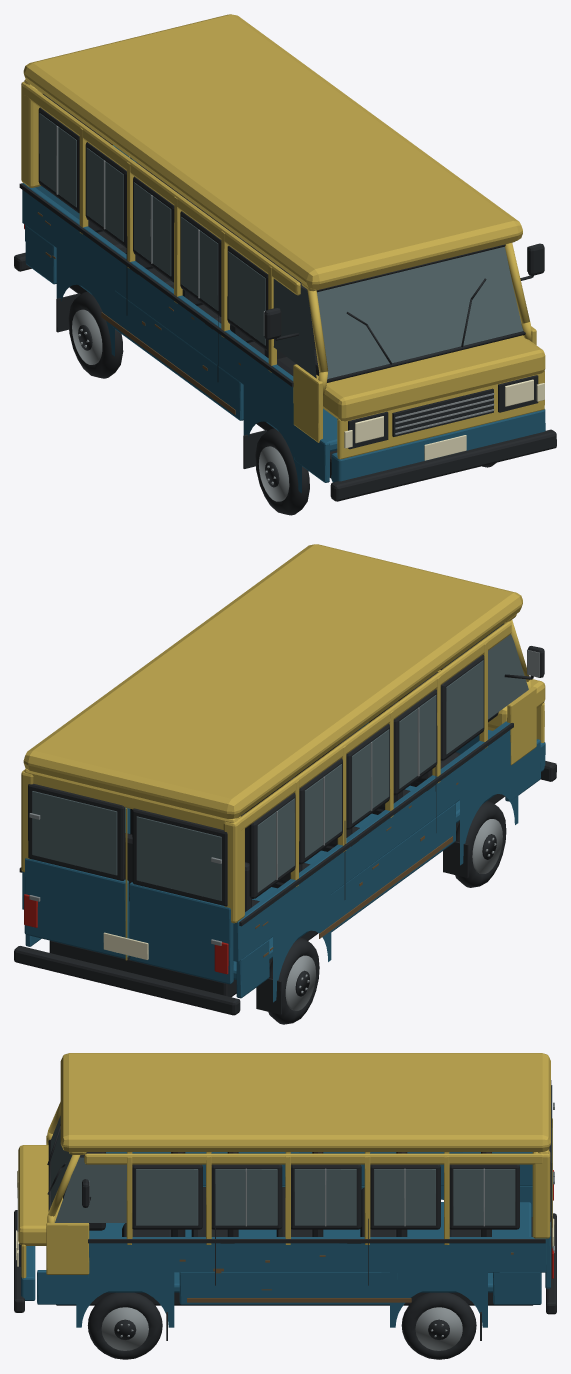
The model's file is minibus.glb.
3 views of the same model, one above another, from view 1: azimuth 30°, elevation 25°; view 2: azimuth 150°, elevation 25°; view 3: azimuth 270°, elevation 25° (orthographic). The views are drawn at different scales.
Visible parts, largest first — view 1: minibus_Weathered_warm_yellow, minibus_Tinted_dusty_glass, minibus_Worn_blue_panels, minibus_Black_rubber_and_cabin, minibus_front_left_wheel, minibus_rear_left_wheel, minibus_Lamp_ivory, minibus_Metal_alloy, minibus_Rust_dust; view 2: minibus_Weathered_warm_yellow, minibus_Worn_blue_panels, minibus_Tinted_dusty_glass, minibus_Black_rubber_and_cabin, minibus_front_left_wheel, minibus_rear_left_wheel, minibus_Metal_alloy, minibus_Rust_dust, minibus_Red_rear_lens, minibus_Lamp_ivory; view 3: minibus_Weathered_warm_yellow, minibus_Worn_blue_panels, minibus_Tinted_dusty_glass, minibus_Black_rubber_and_cabin, minibus_rear_right_wheel, minibus_front_right_wheel, minibus_Rust_dust, minibus_Metal_alloy.
Part boxes in pixels (bbox=[...]): minibus_Weathered_warm_yellow: bbox=[21, 14, 545, 459]; minibus_Tinted_dusty_glass: bbox=[39, 113, 523, 378]; minibus_Worn_blue_panels: bbox=[22, 145, 545, 492]; minibus_Black_rubber_and_cabin: bbox=[14, 94, 556, 501]; minibus_front_left_wheel: bbox=[255, 428, 309, 515]; minibus_rear_left_wheel: bbox=[68, 291, 123, 378]; minibus_Lamp_ivory: bbox=[344, 379, 544, 460]; minibus_Metal_alloy: bbox=[56, 126, 528, 434]; minibus_Rust_dust: bbox=[37, 212, 240, 414]; minibus_Weathered_warm_yellow: bbox=[21, 544, 545, 960]; minibus_Worn_blue_panels: bbox=[22, 721, 545, 1002]; minibus_Tinted_dusty_glass: bbox=[32, 623, 528, 900]; minibus_Black_rubber_and_cabin: bbox=[14, 646, 556, 1015]; minibus_front_left_wheel: bbox=[455, 801, 506, 887]; minibus_rear_left_wheel: bbox=[268, 937, 319, 1024]; minibus_Metal_alloy: bbox=[29, 649, 539, 945]; minibus_Rust_dust: bbox=[255, 782, 458, 957]; minibus_Red_rear_lens: bbox=[24, 894, 228, 974]; minibus_Lamp_ivory: bbox=[103, 711, 544, 959]; minibus_Weathered_warm_yellow: bbox=[18, 1053, 552, 1278]; minibus_Worn_blue_panels: bbox=[21, 1152, 550, 1327]; minibus_Tinted_dusty_glass: bbox=[51, 1085, 552, 1225]; minibus_Black_rubber_and_cabin: bbox=[14, 1080, 556, 1340]; minibus_rear_right_wheel: bbox=[401, 1292, 476, 1359]; minibus_front_right_wheel: bbox=[87, 1292, 162, 1359]; minibus_Rust_dust: bbox=[179, 1252, 513, 1302]; minibus_Metal_alloy: bbox=[17, 1102, 554, 1253].
Size of the model in its own units: 2.46 by 2.26 by 4.93.
